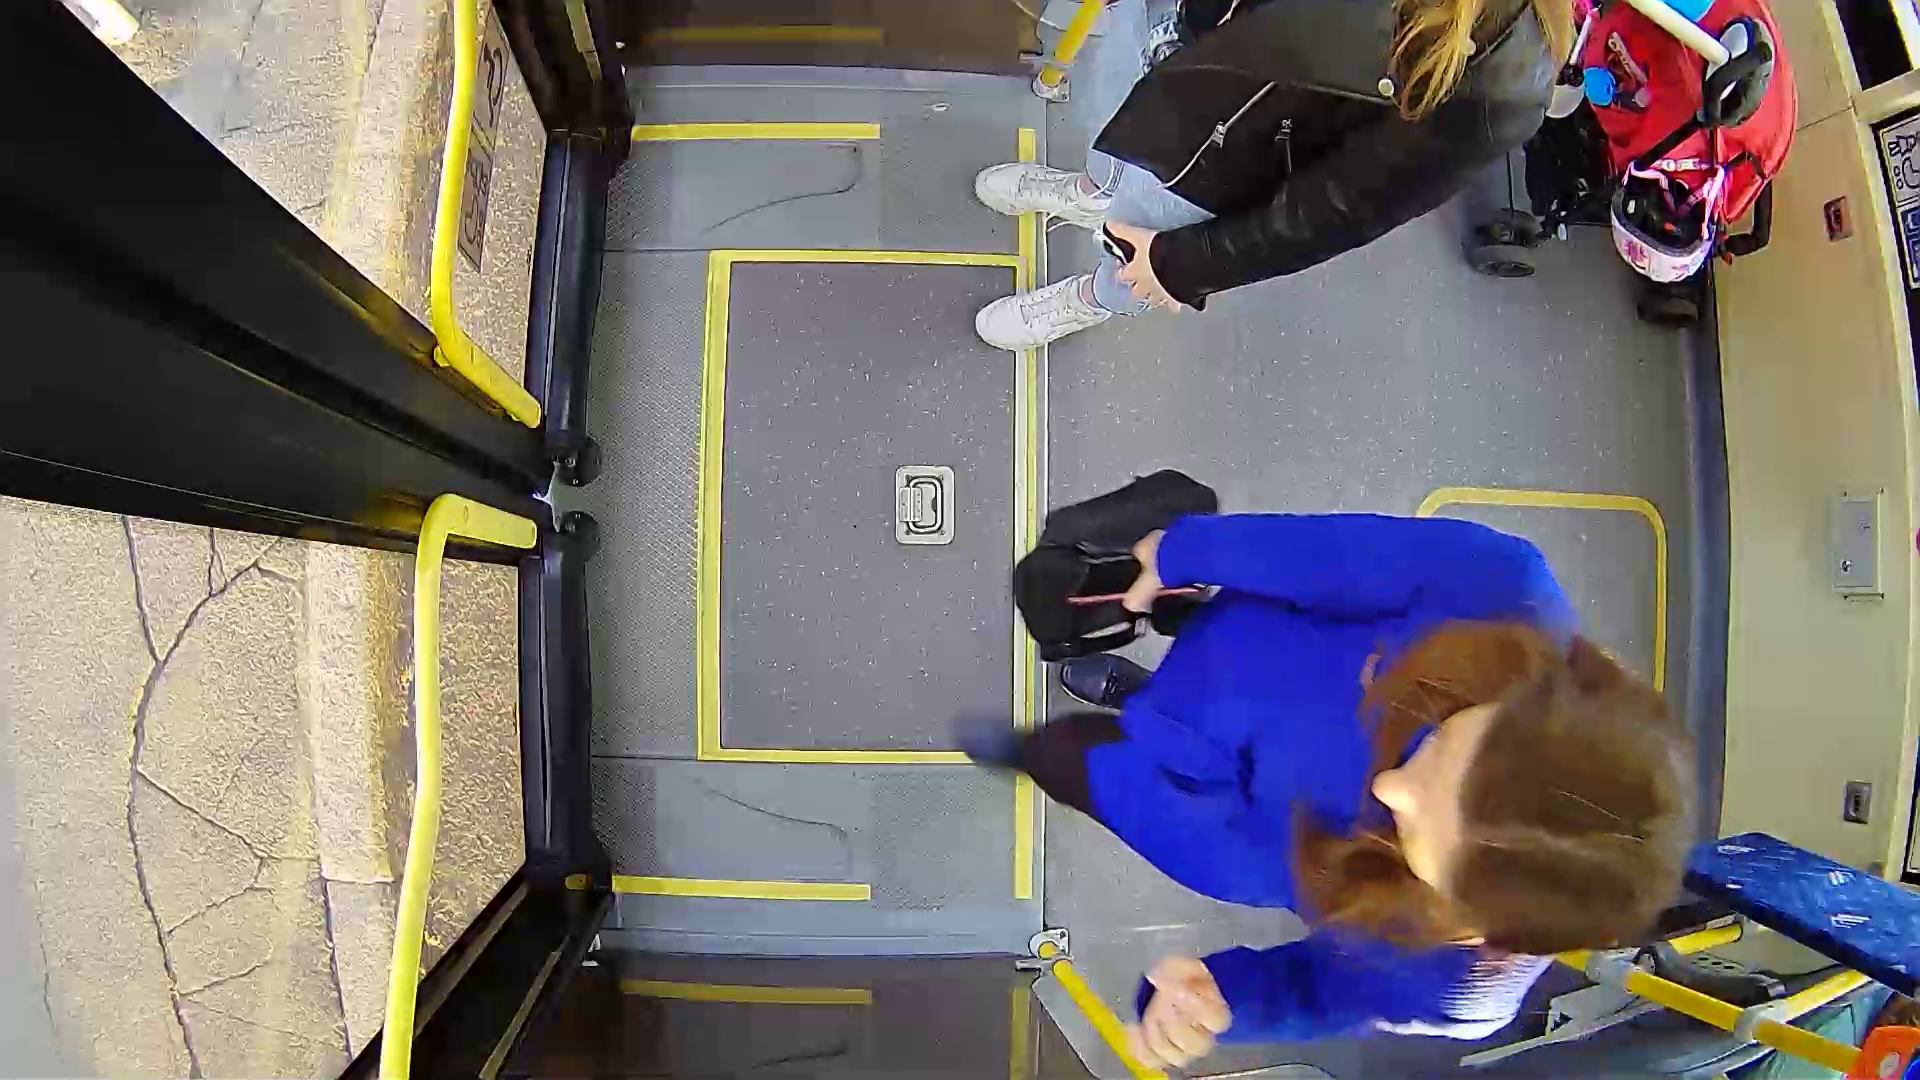person: (1010, 415, 1821, 1051)
